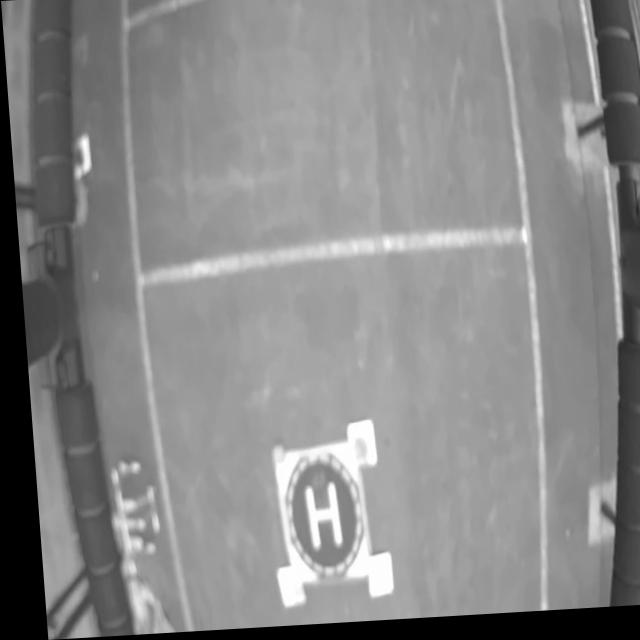Helipad: (296, 485, 334, 553)
